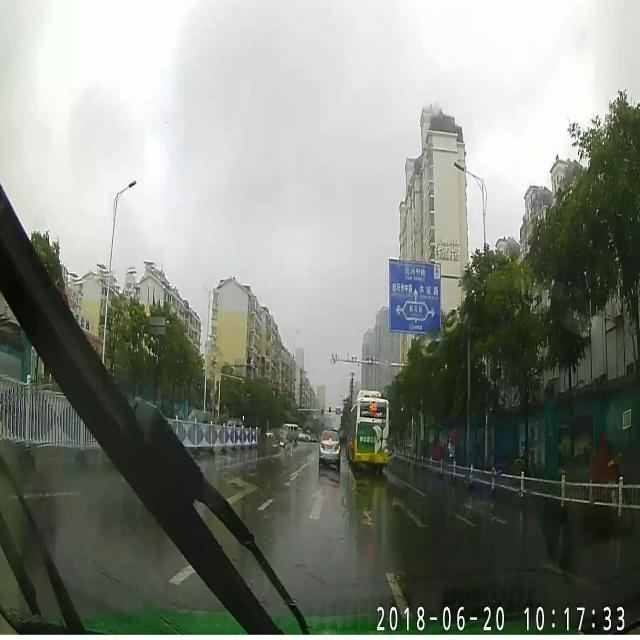car: (316, 428, 341, 469), (278, 422, 300, 444)
